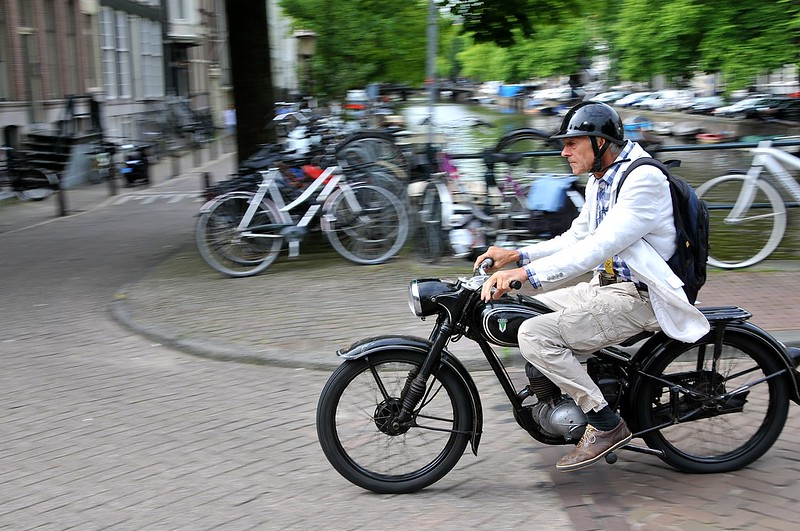helmet: (555, 103, 630, 152)
